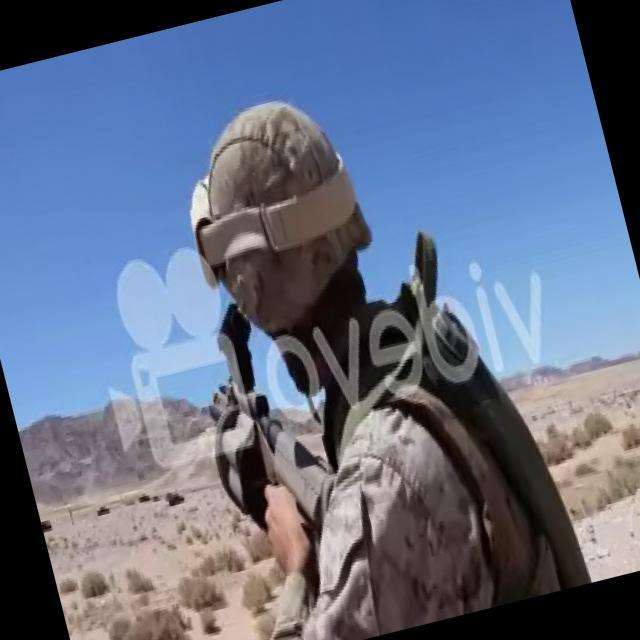rocket: (178, 296, 338, 545)
